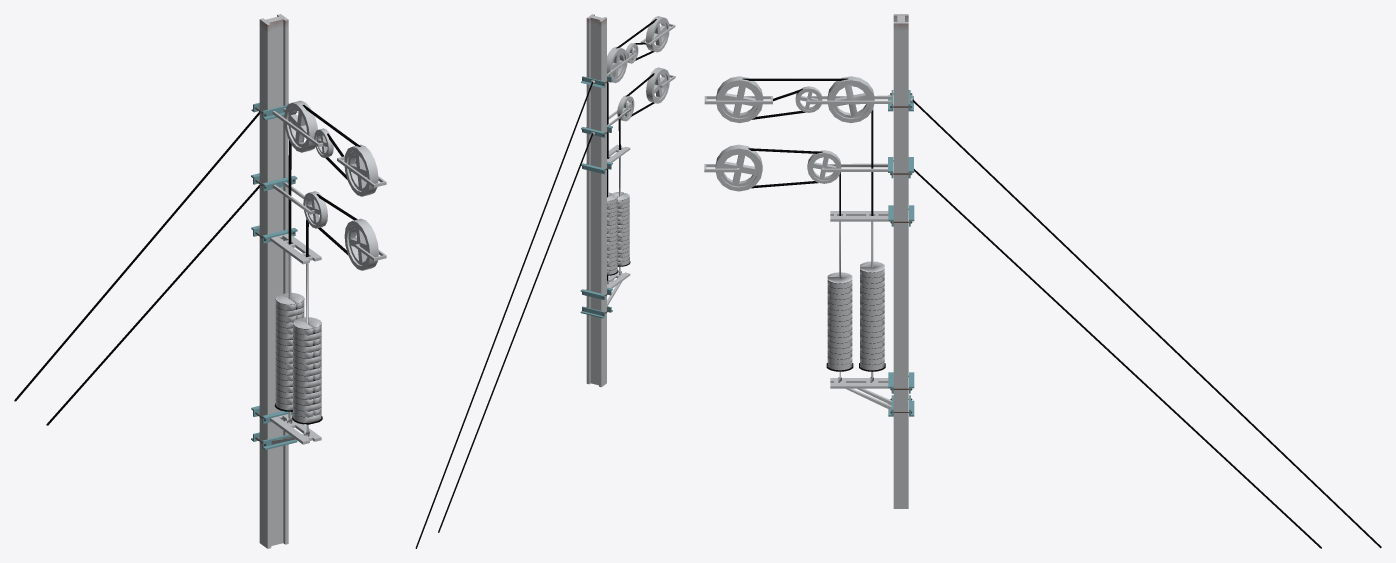
File: compensator_pro.obj
3 views of the same model, side by side, from view 1: azimuth 30°, elevation 25°; view 2: azimuth 150°, elevation 25°; view 3: azimuth 270°, elevation 25° (orthographic). The views are drawn at different scales.
Parts seen in each view (by area): view 1: catenary_anti.040, catenary_anti, catenary_anti.039; view 2: catenary_anti, catenary_anti.040, catenary_anti.039; view 3: catenary_anti.040, catenary_anti, catenary_anti.039.
Boxes of the visible parts, bbox=[...] form: catenary_anti.040: bbox=[251, 100, 386, 449]; catenary_anti: bbox=[259, 14, 288, 548]; catenary_anti.039: bbox=[14, 111, 259, 425]; catenary_anti: bbox=[586, 14, 606, 387]; catenary_anti.040: bbox=[416, 16, 675, 548]; catenary_anti.039: bbox=[415, 81, 592, 548]; catenary_anti.040: bbox=[704, 76, 914, 416]; catenary_anti: bbox=[893, 14, 908, 508]; catenary_anti.039: bbox=[912, 99, 1381, 548].
Bounding box in the file's own units: 0.5791 × 9.75 × 11.29.
Materials: 3 (3 with a texture image).
